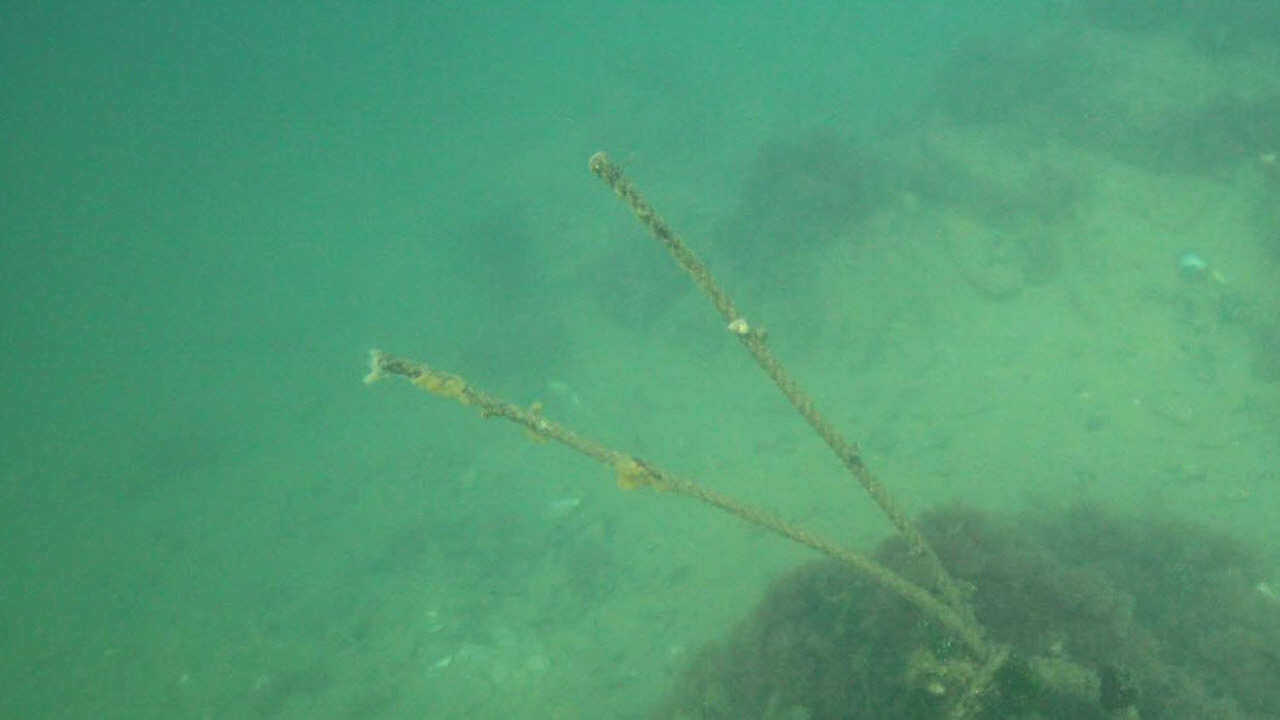rope: (586, 146, 985, 639), (368, 348, 990, 664)
